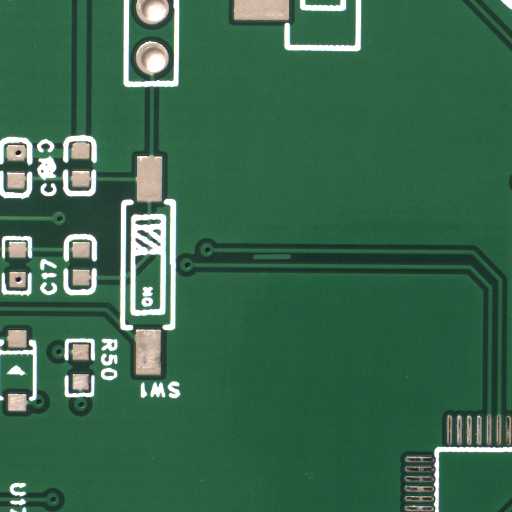Spurious_copper: (272, 255, 311, 264)
